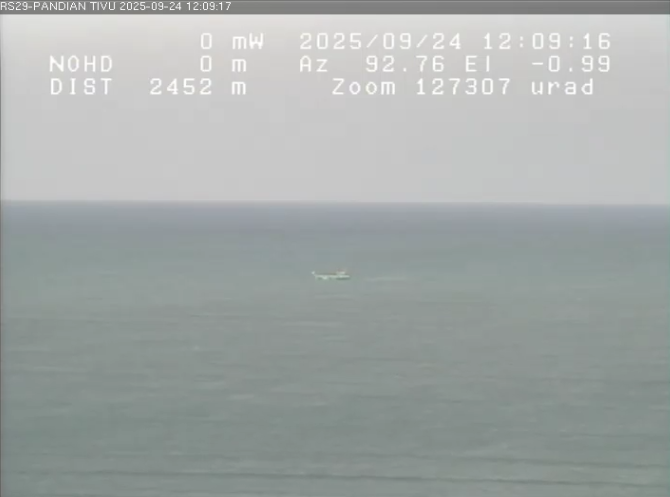FISHING_BOAT: (292, 255, 361, 286)
